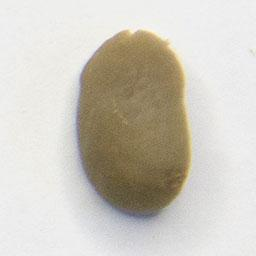premium: (73, 27, 196, 219)
